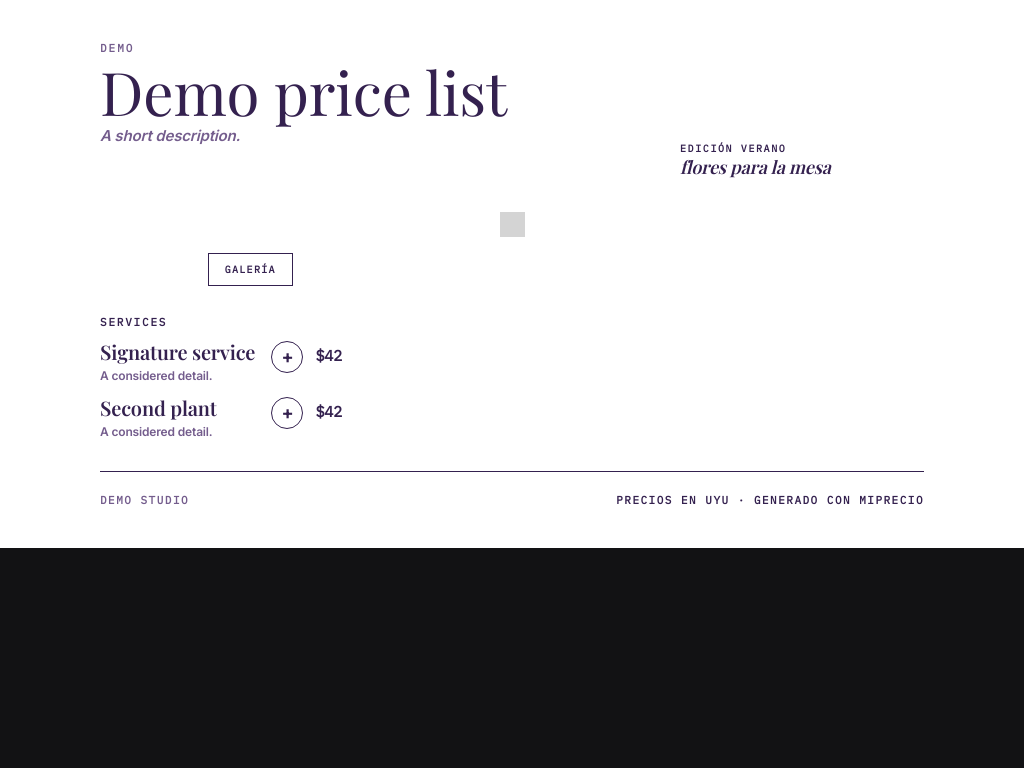
Test: Pencil price-list templates › portals a clicked product image above storefront chrome
Click the button with aria-label "Ver foto de Signature service" at (178, 351), box 100,340 -> 255,362
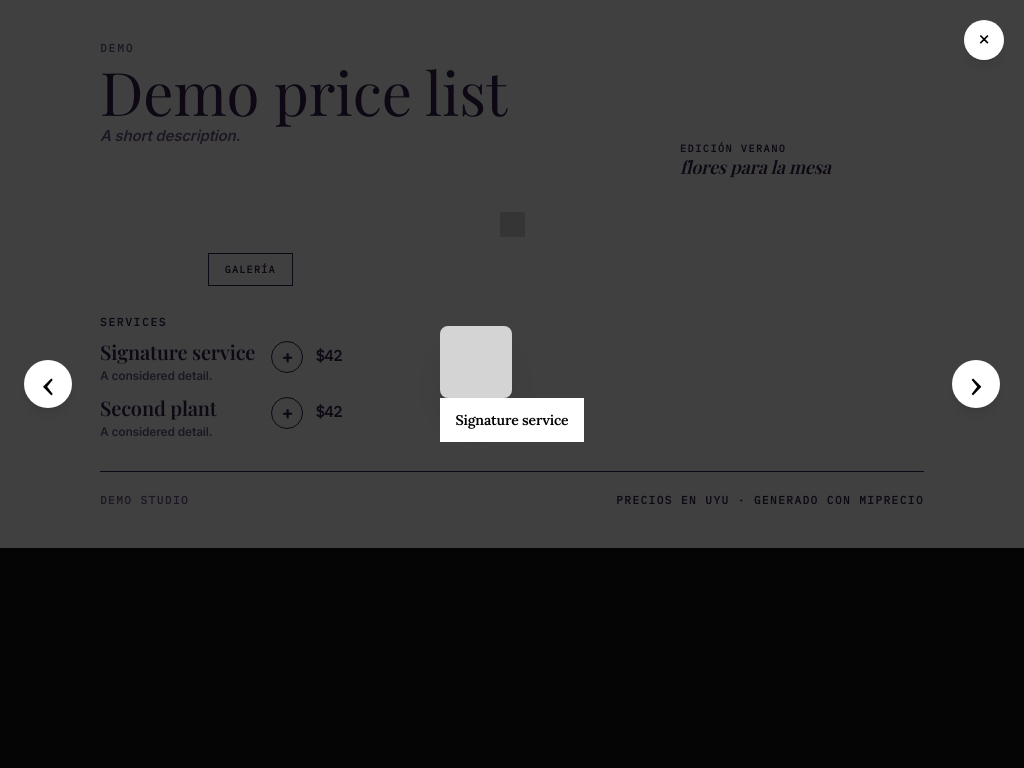
Click the button named "Foto siguiente" at (976, 384), box 952,360 -> 1000,408
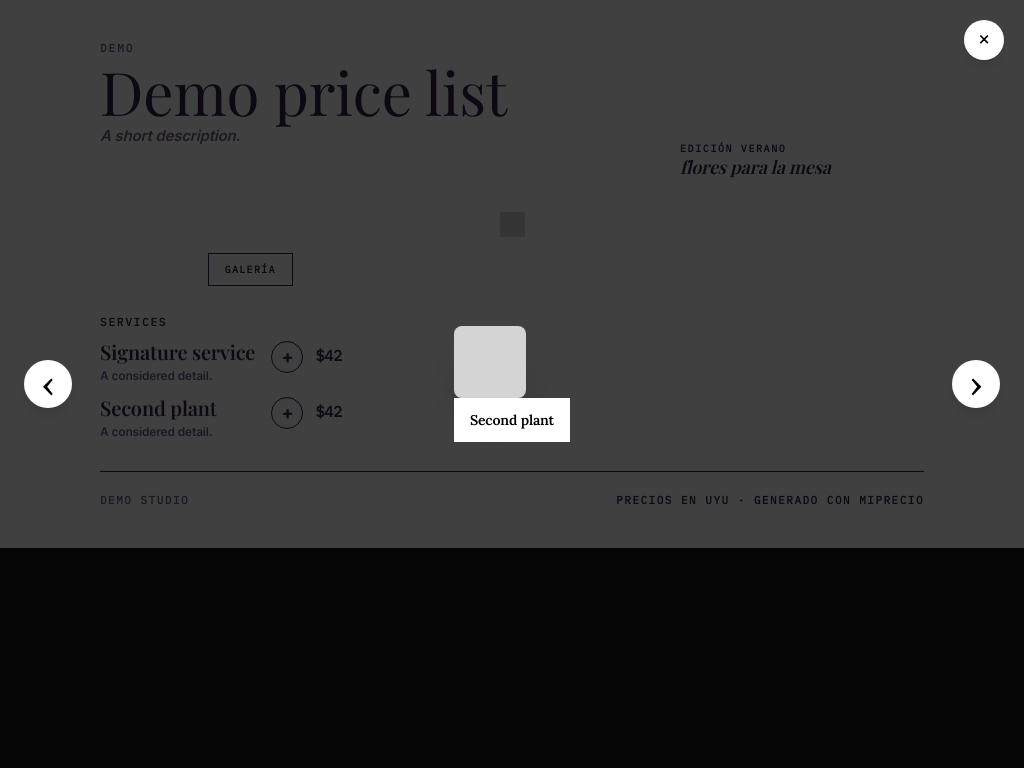
Press ArrowLeft
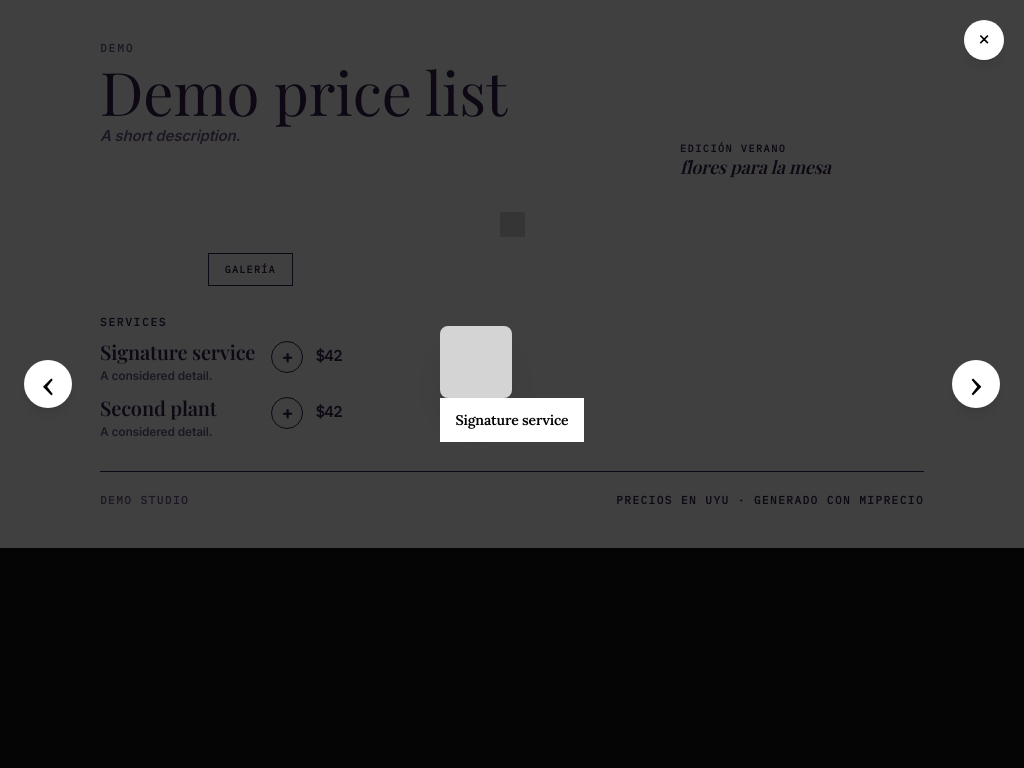
Press Escape
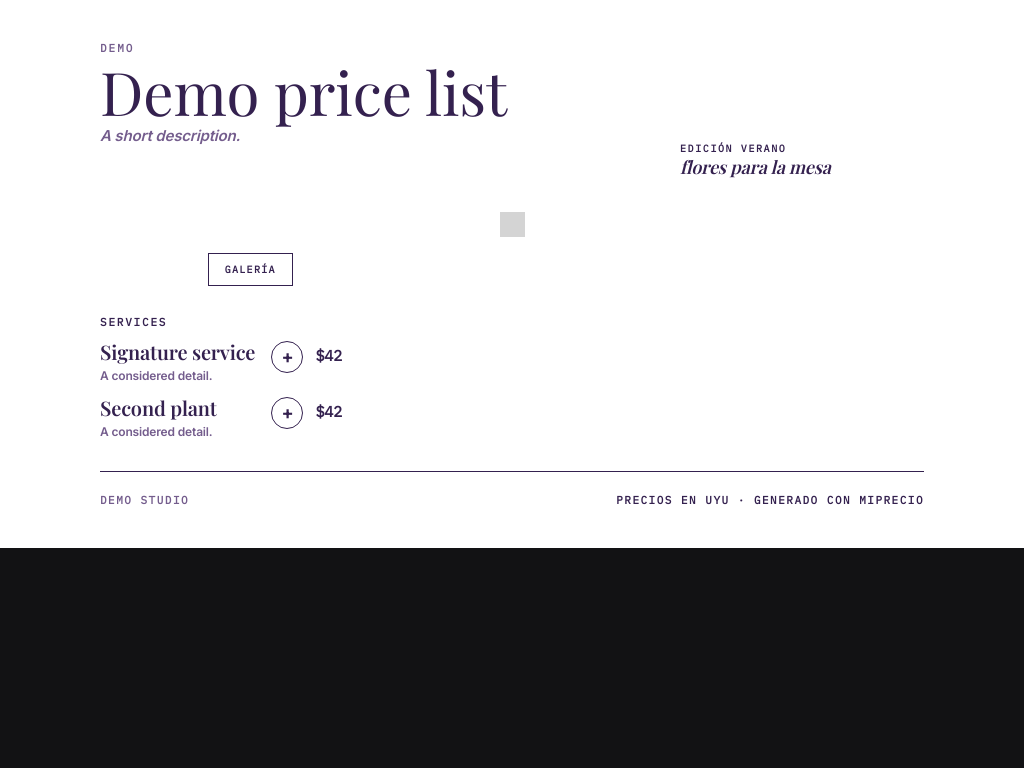
expect the dialog is gone: met
